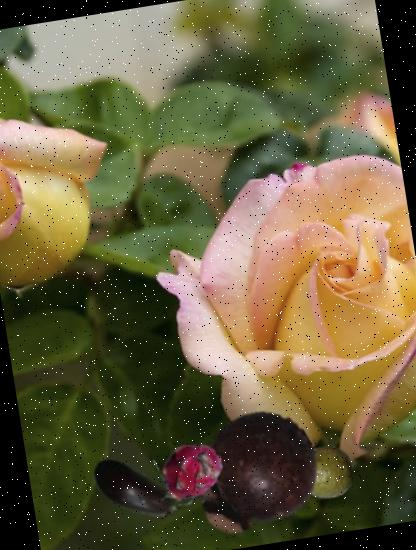Eggplant: (80, 437, 189, 546)
Guava: (289, 438, 358, 507)
Mangostan: (171, 395, 329, 550)
Pitahaya: (148, 432, 232, 516)
